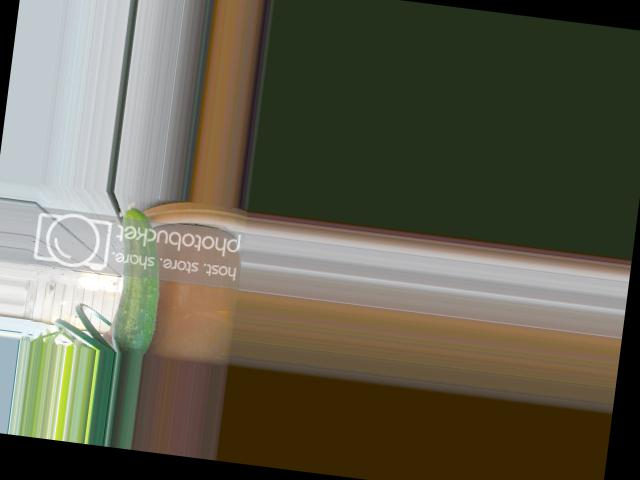cucumber: (105, 199, 170, 355)
